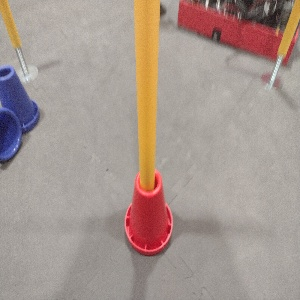Blue_1: (0, 66, 45, 132), (0, 109, 21, 159)
Red_1: (122, 168, 175, 257)
